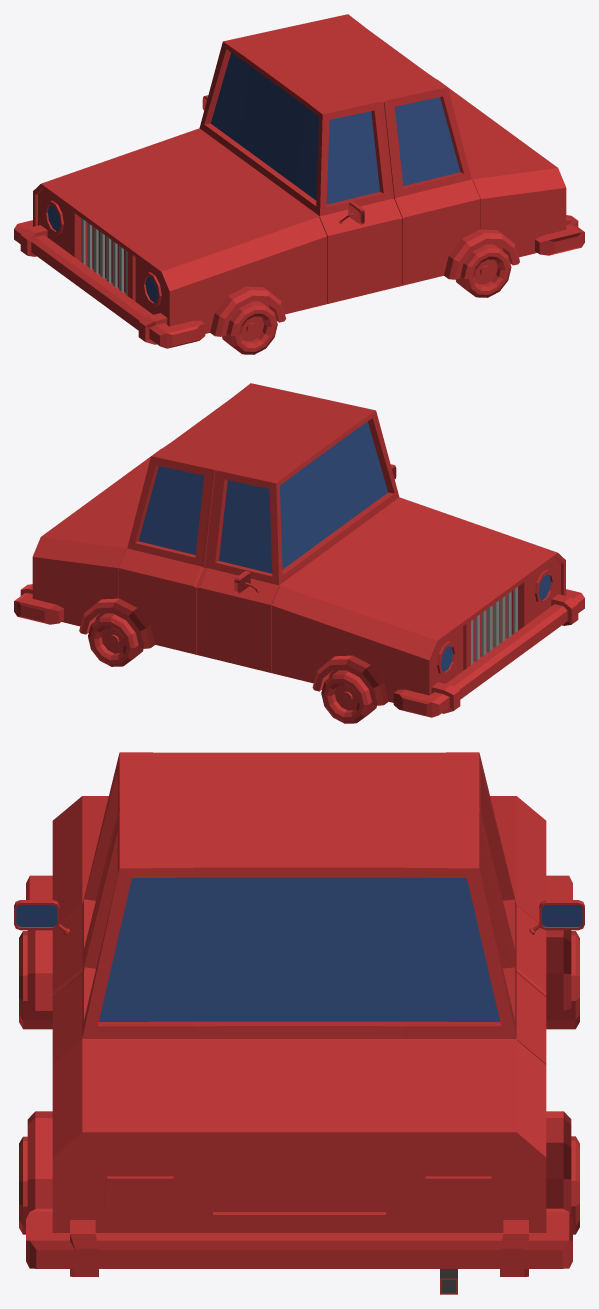
Rendered from car_multi.fbx.
3 views of the same model, one above another, from view 1: azimuth 30°, elevation 25°; view 2: azimuth 150°, elevation 25°; view 3: azimuth 270°, elevation 25° (orthographic). The views are drawn at different scales.
Parts seen in each view (by area): view 1: car 1; view 2: car 1; view 3: car 1.
Part boxes in pixels (<box>): car 1: <box>14,14,584,354</box>; car 1: <box>14,383,584,723</box>; car 1: <box>14,752,584,1294</box>.
Size of the model in its own units: 350 by 153 by 222.
